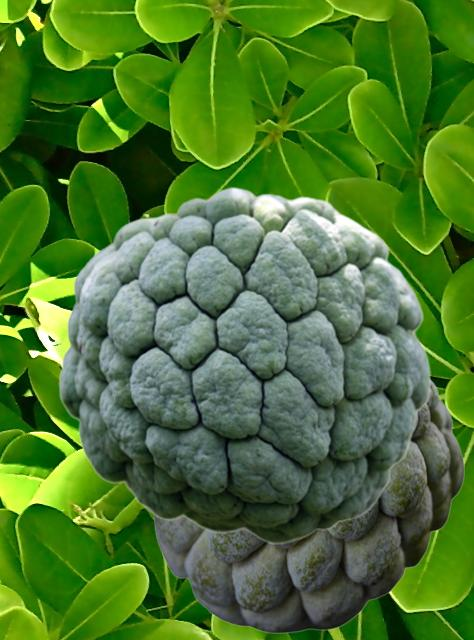atis: (58, 186, 430, 544), (148, 377, 463, 632)
